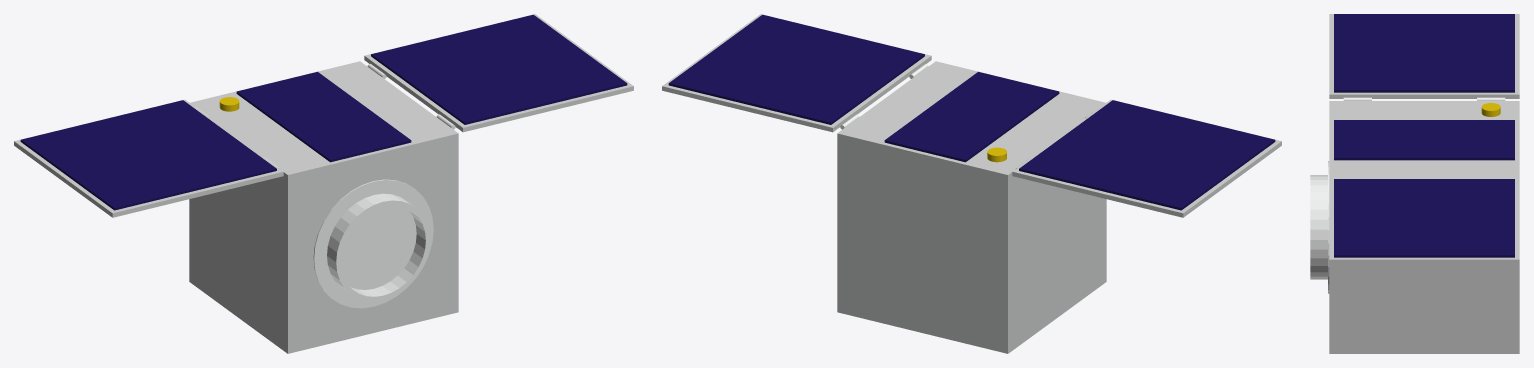
The model's file is koyoh_simple_model.glb.
3 renders of one model, left to right at view 1: azimuth 30°, elevation 25°; view 2: azimuth 150°, elevation 25°; view 3: azimuth 270°, elevation 25°, orthographic. The views are drawn at different scales.
Parts seen in each view (by area): view 1: KOYOH; view 2: KOYOH; view 3: KOYOH.
Boxes of the visible parts, <box> form: KOYOH: <box>14,14,633,353</box>; KOYOH: <box>662,14,1281,353</box>; KOYOH: <box>1310,14,1519,353</box>.
Bounding box in the file's own units: 6.1 × 2.14 × 2.2.
